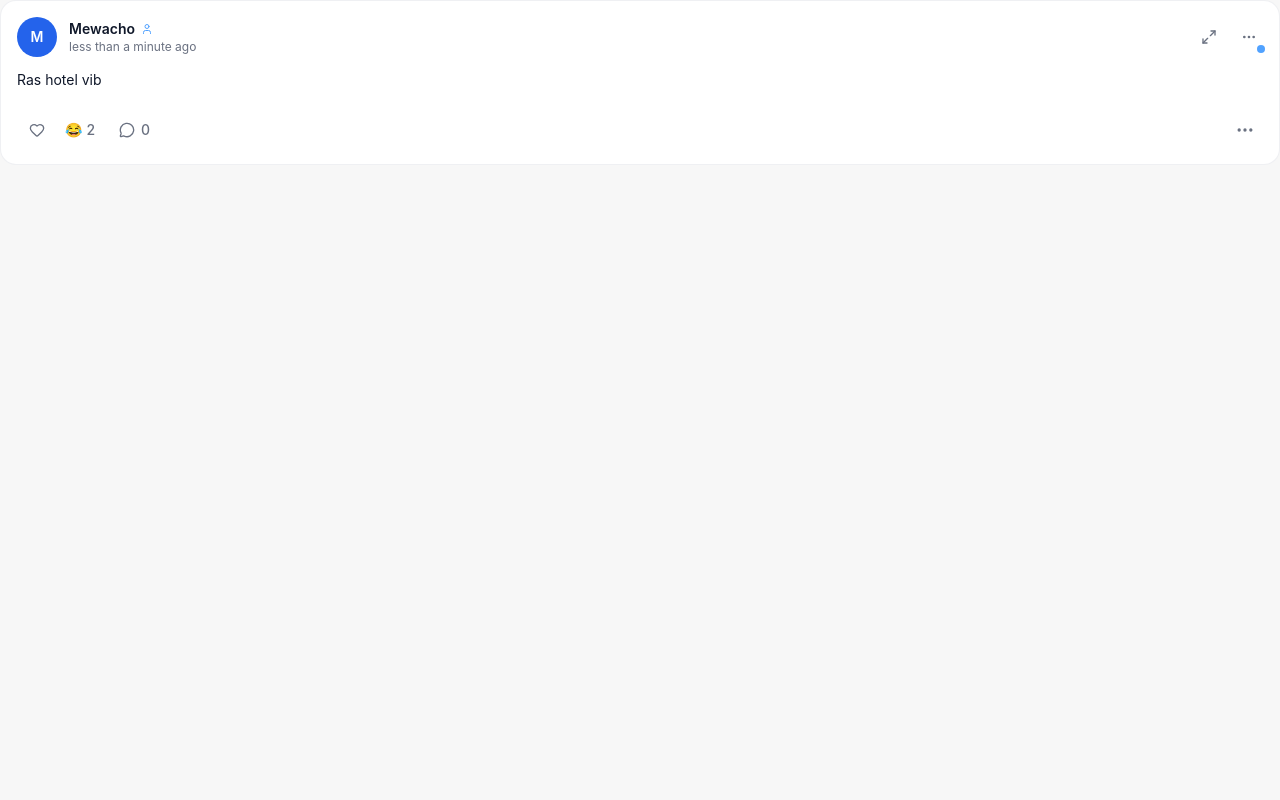
Test: More menu on someone else’s post › offers reply, save, follow, not interested, mute, block and report, but not edit or delete
Click the button named "More options for this post": (1245, 130) 1227,108 -> 1263,152
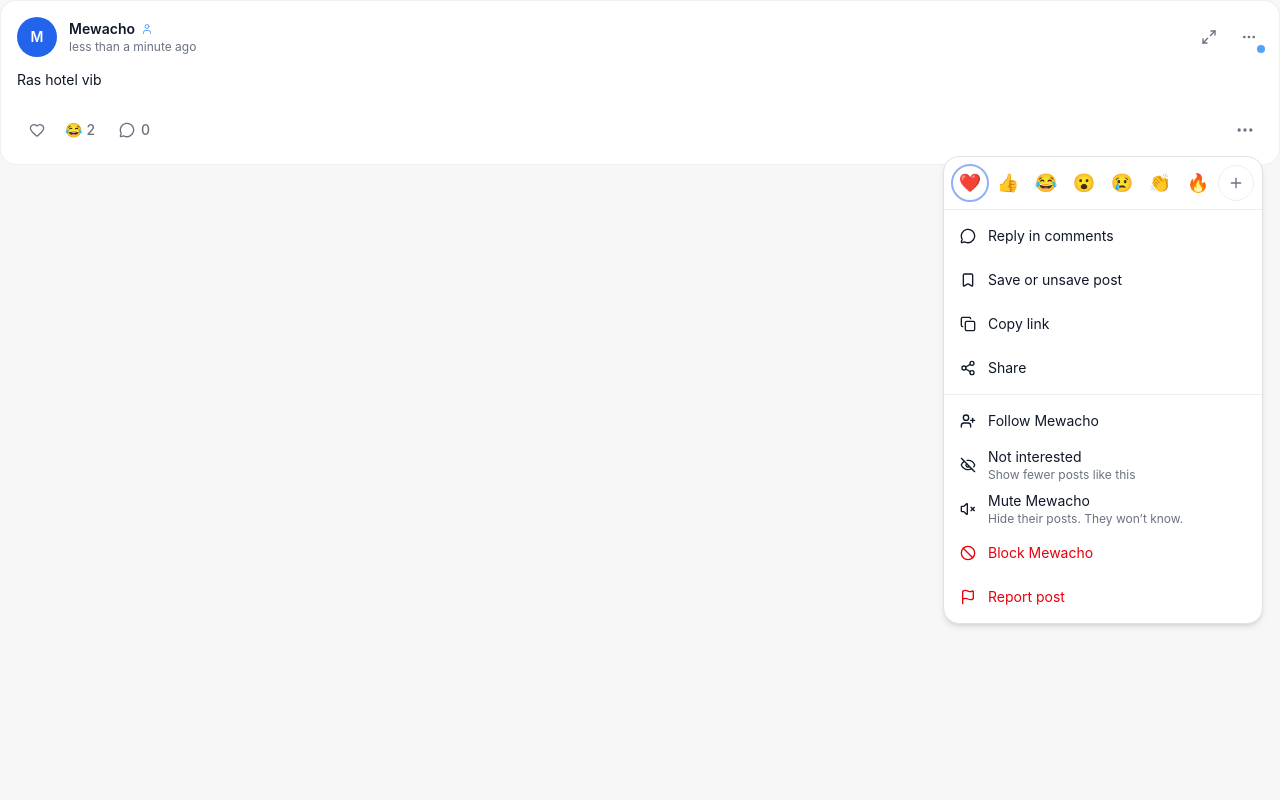
Expected: the menu item "Reply in comments" is shown, 944,214 -> 1262,258
Expected: the menu item "Save or unsave post" is shown, 944,258 -> 1262,302
Expected: the menu item "Copy link" is shown, 944,302 -> 1262,346
